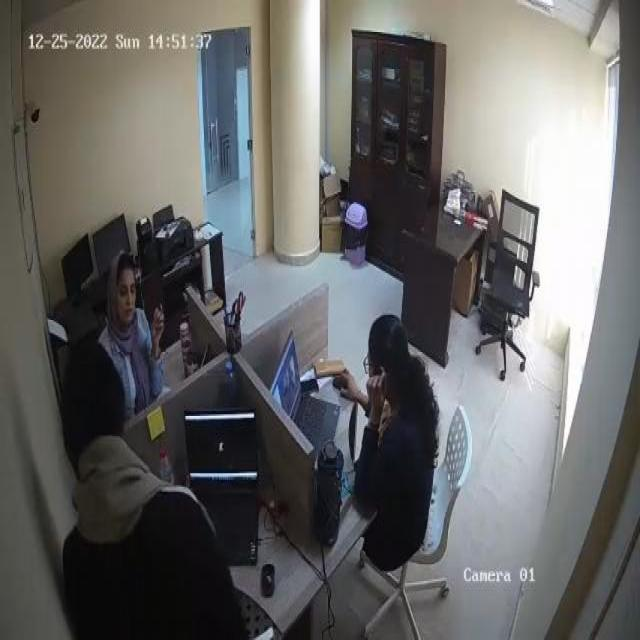bare_hand: (362, 360, 391, 440), (329, 352, 359, 411), (147, 295, 170, 359)
